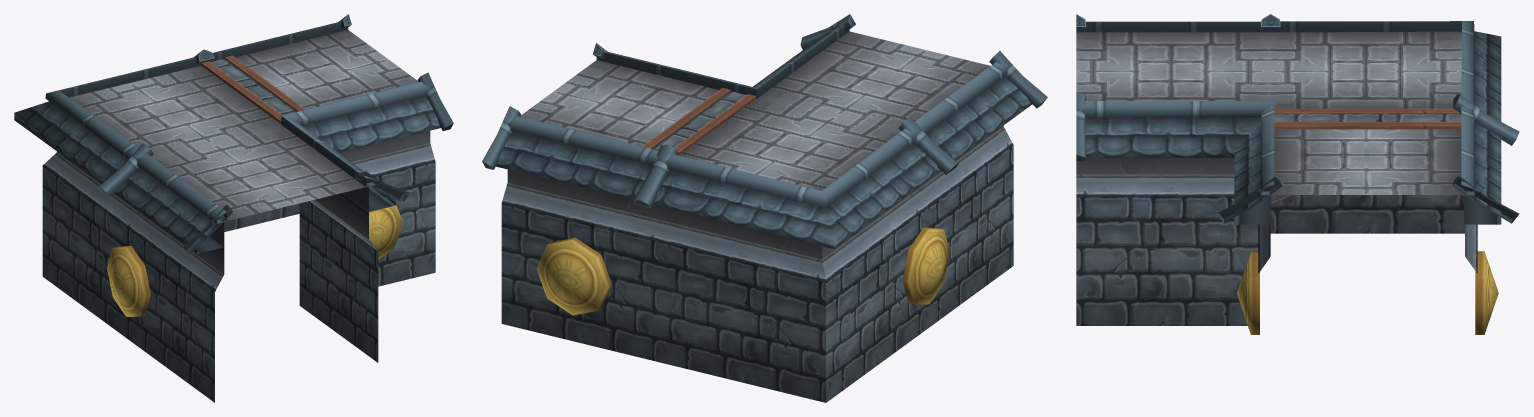
The model's file is castle_wall_corner.fbx.
3 renders of one model, left to right at view 1: azimuth 30°, elevation 25°; view 2: azimuth 150°, elevation 25°; view 3: azimuth 270°, elevation 25°, orthographic. The views are drawn at different scales.
Visible parts, largest first — view 1: castle_wall_corner; view 2: castle_wall_corner; view 3: castle_wall_corner.
Boxes of the visible parts, left/top/right/bottom form: castle_wall_corner: left=14, top=14, right=453, bottom=402; castle_wall_corner: left=482, top=14, right=1047, bottom=402; castle_wall_corner: left=1076, top=14, right=1519, bottom=334.
Size of the model in its own units: 7.54 by 4.25 by 7.54.
Materials: 1 (1 with a texture image).
